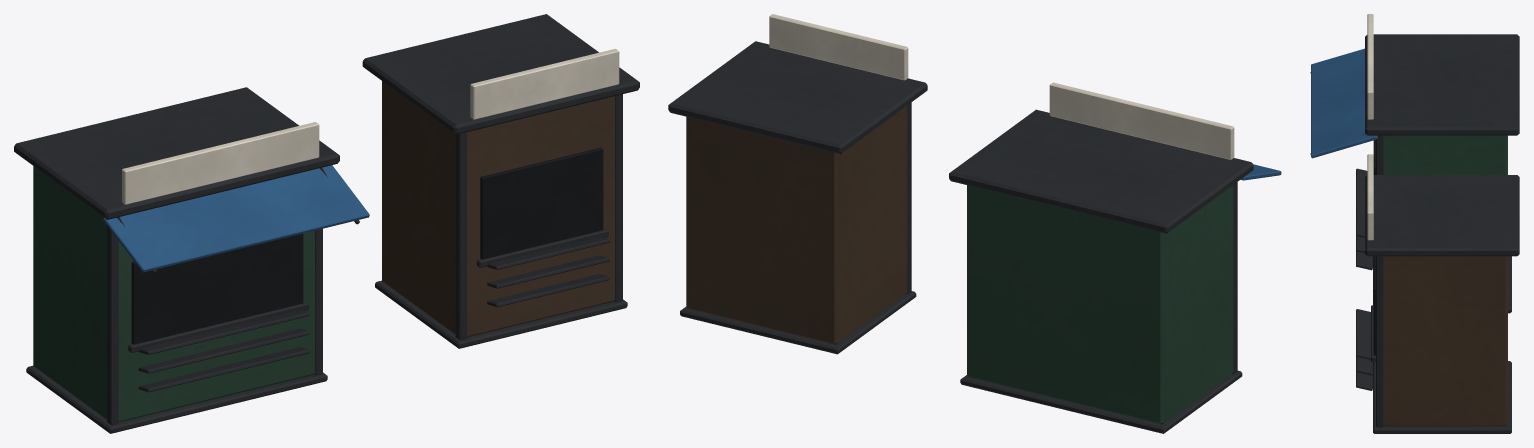
The model's file is newsstand.glb.
The picture shows the model from 3 angles, left to right: view 1: azimuth 30°, elevation 25°; view 2: azimuth 150°, elevation 25°; view 3: azimuth 270°, elevation 25°; orthographic projection. The views are drawn at different scales.
Visible parts, largest first — view 1: newsstand_v1, newsstand_v2; view 2: newsstand_v1, newsstand_v2; view 3: newsstand_v2, newsstand_v1.
Part boxes in pixels (x1,y1,x2,y2): newsstand_v1: (14,87,369,433); newsstand_v2: (362,14,639,348); newsstand_v1: (949,82,1281,433); newsstand_v2: (668,14,927,354); newsstand_v2: (1356,154,1519,433); newsstand_v1: (1310,14,1519,313).
Bounding box in the file's own units: 6.6 × 3.1 × 2.71.
Materials: 2 (2 with a texture image).
